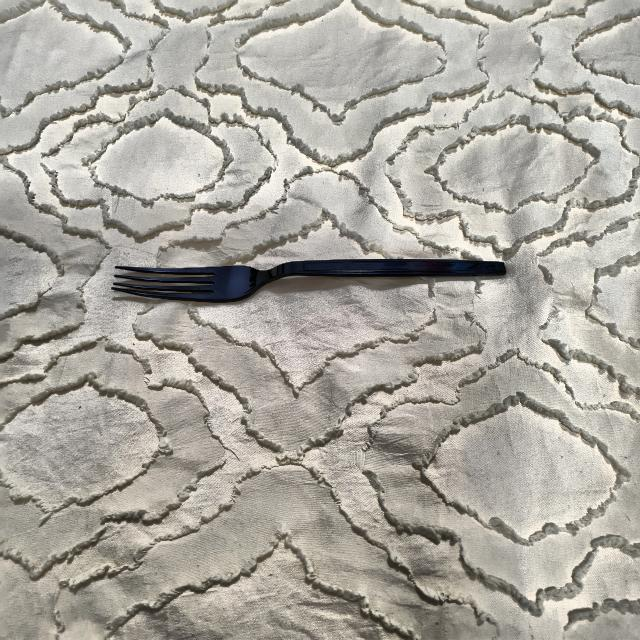plastic utensil: (109, 253, 518, 308)
